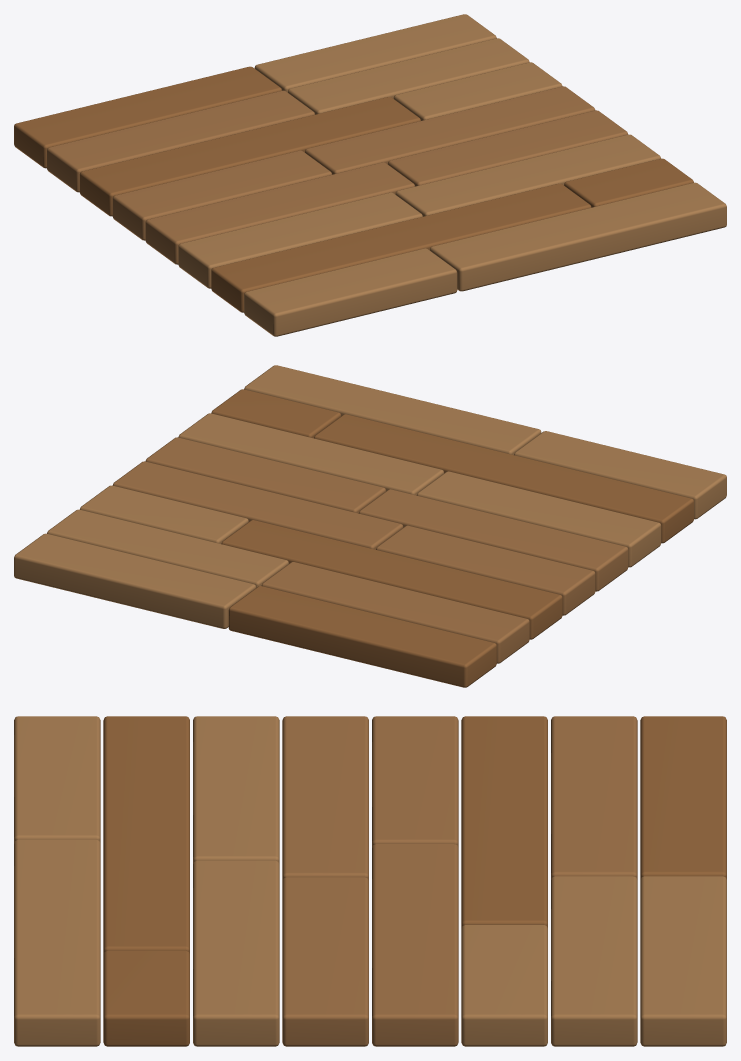
File: floor-planks.glb
3 views of the same model, one above another, from view 1: azimuth 30°, elevation 25°; view 2: azimuth 150°, elevation 25°; view 3: azimuth 270°, elevation 25° (orthographic). The views are drawn at different scales.
Visible parts, largest first — view 1: floor-planks; view 2: floor-planks; view 3: floor-planks.
Boxes of the visible parts, <box> form: floor-planks: <box>14,14,726,336</box>; floor-planks: <box>14,365,726,687</box>; floor-planks: <box>14,716,726,1046</box>.
Bounding box in the file's own units: 1.99 × 0.1 × 1.99.
